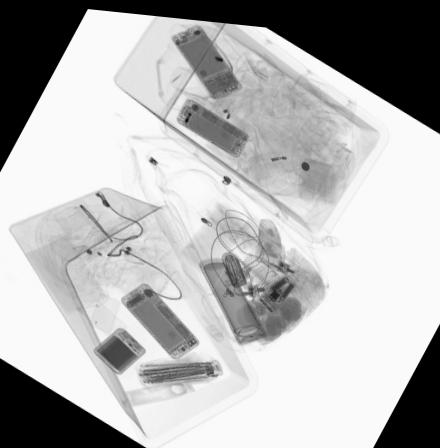Powerbank: (92, 325, 145, 375)
